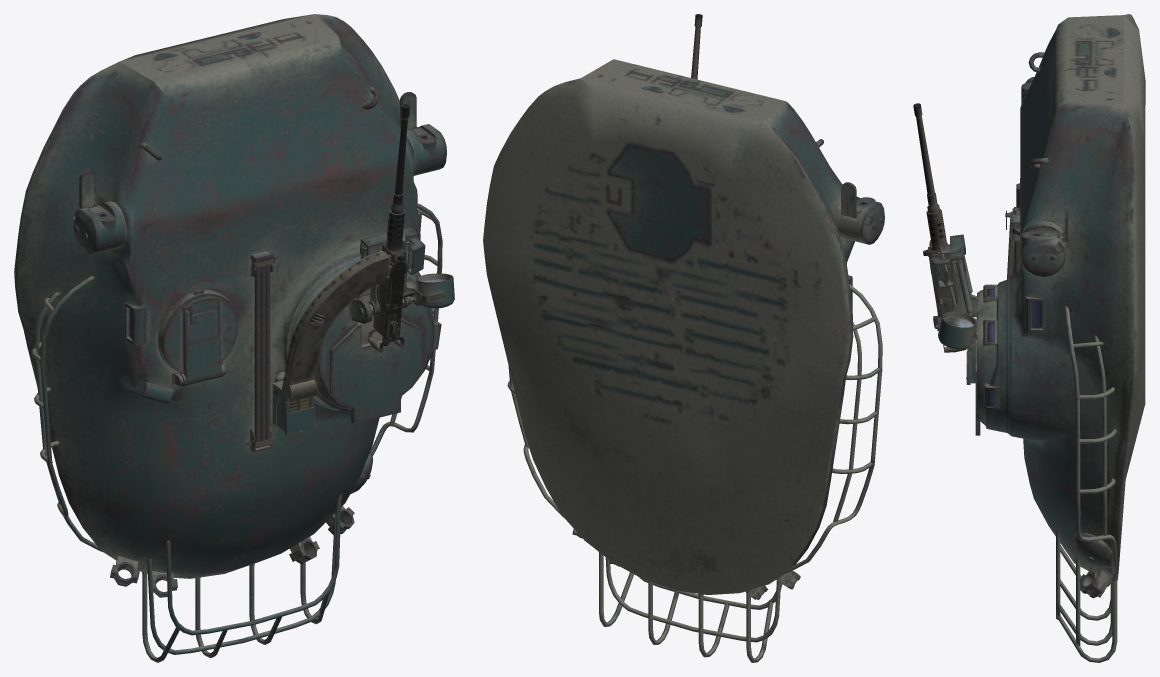
File: Turret_02.glb
3 views of the same model, side by side, from view 1: azimuth 30°, elevation 25°; view 2: azimuth 150°, elevation 25°; view 3: azimuth 270°, elevation 25° (orthographic). The views are drawn at different scales.
Parts seen in each view (by area): view 1: set_0_group_0; view 2: set_0_group_0; view 3: set_0_group_0.
Boxes of the visible parts, <box> form: set_0_group_0: <box>14,14,454,662</box>; set_0_group_0: <box>483,14,884,662</box>; set_0_group_0: <box>913,14,1145,662</box>.
Bounding box in the file's own units: 2.7 × 3.86 × 1.42.
1 material, 1 textured.
